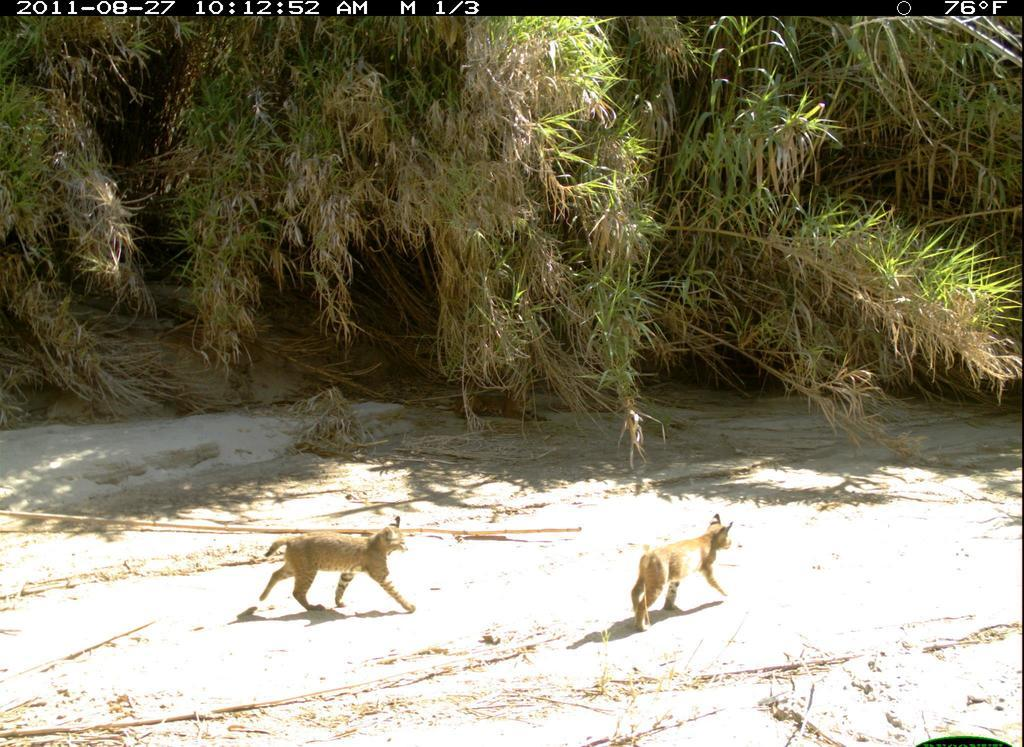bobcat: (253, 506, 427, 623), (620, 509, 742, 633)
